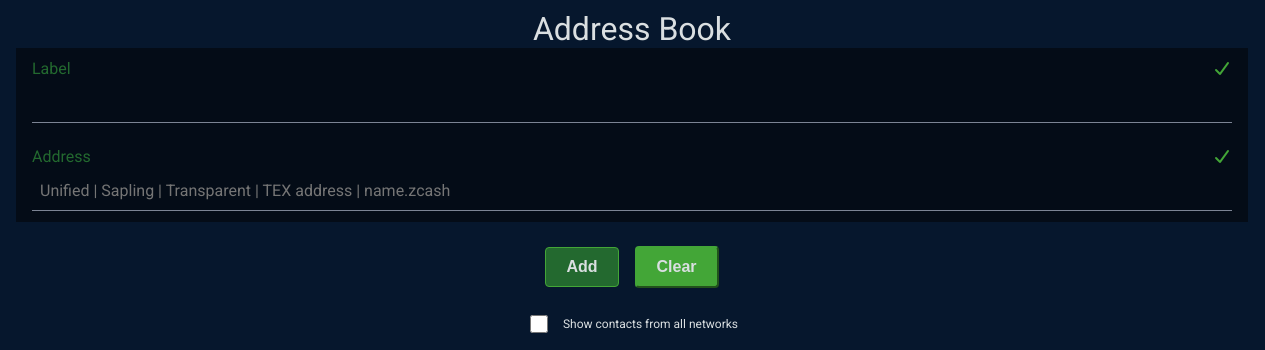
it: AddressBook › recognizes a TEX address and shows 'TEX' tag
In the field labelled "Unified | Sapling | Transparent | TEX address | name.zcash": (632, 190) [32, 170, 1232, 211], type "texvalid"
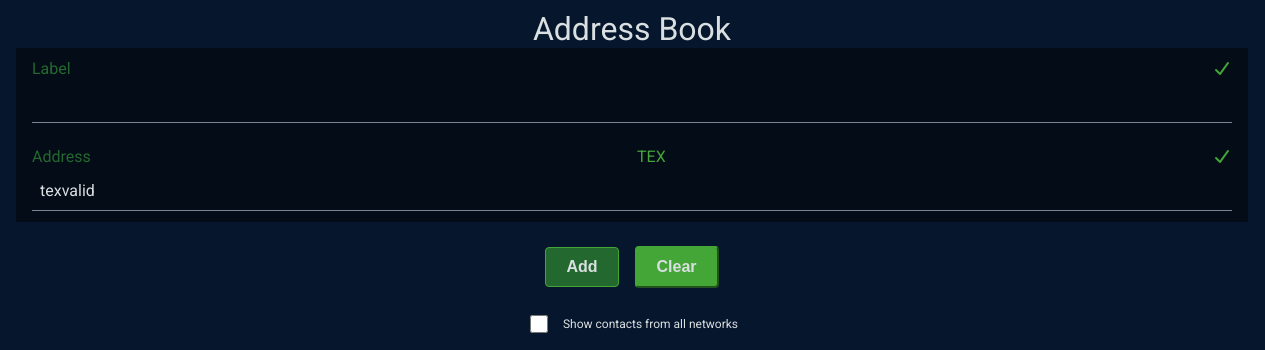
Check: the text "TEX" is shown, box [637, 147, 666, 166]
